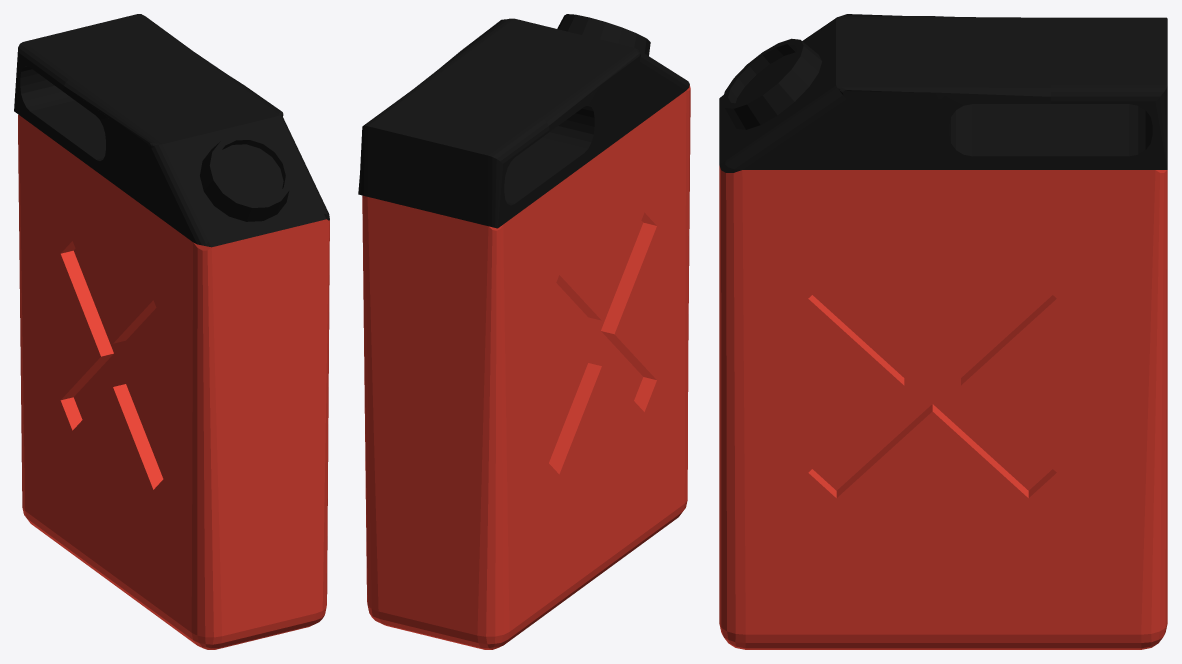
The model's file is fuel.fbx.
3 views of the same model, side by side, from view 1: azimuth 30°, elevation 25°; view 2: azimuth 150°, elevation 25°; view 3: azimuth 270°, elevation 25° (orthographic). The views are drawn at different scales.
Parts seen in each view (by area): view 1: Cube; view 2: Cube; view 3: Cube.
Part boxes in pixels (bbox=[...]): Cube: bbox=[14, 14, 329, 649]; Cube: bbox=[358, 14, 690, 649]; Cube: bbox=[719, 14, 1167, 649].
Size of the model in its own units: 200 by 698 by 493.
